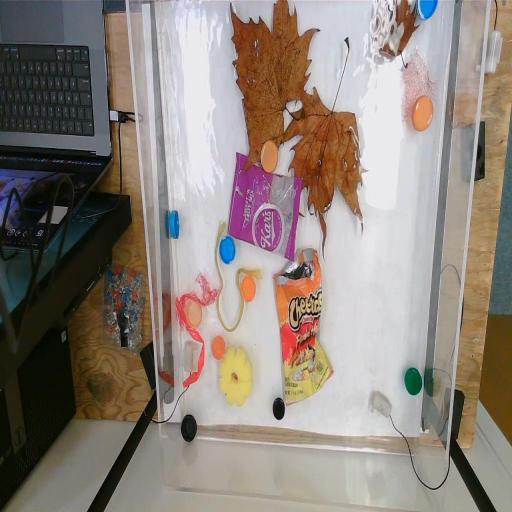Bottle Cap: (412, 94, 434, 132), (180, 410, 198, 446), (261, 140, 279, 174), (404, 364, 423, 396), (220, 234, 236, 266), (185, 300, 203, 328), (416, 0, 440, 20), (168, 209, 182, 241), (210, 333, 226, 361), (242, 276, 256, 302), (272, 396, 286, 422)
Leaf: (284, 36, 366, 262), (228, 0, 322, 174), (370, 0, 424, 70)
Netting: (402, 48, 436, 118), (177, 273, 221, 312)
Plastic Bag: (272, 248, 334, 406), (226, 150, 306, 264)
Plastic Strand: (215, 221, 261, 335), (175, 296, 205, 390)
Sponge: (218, 346, 253, 404)
